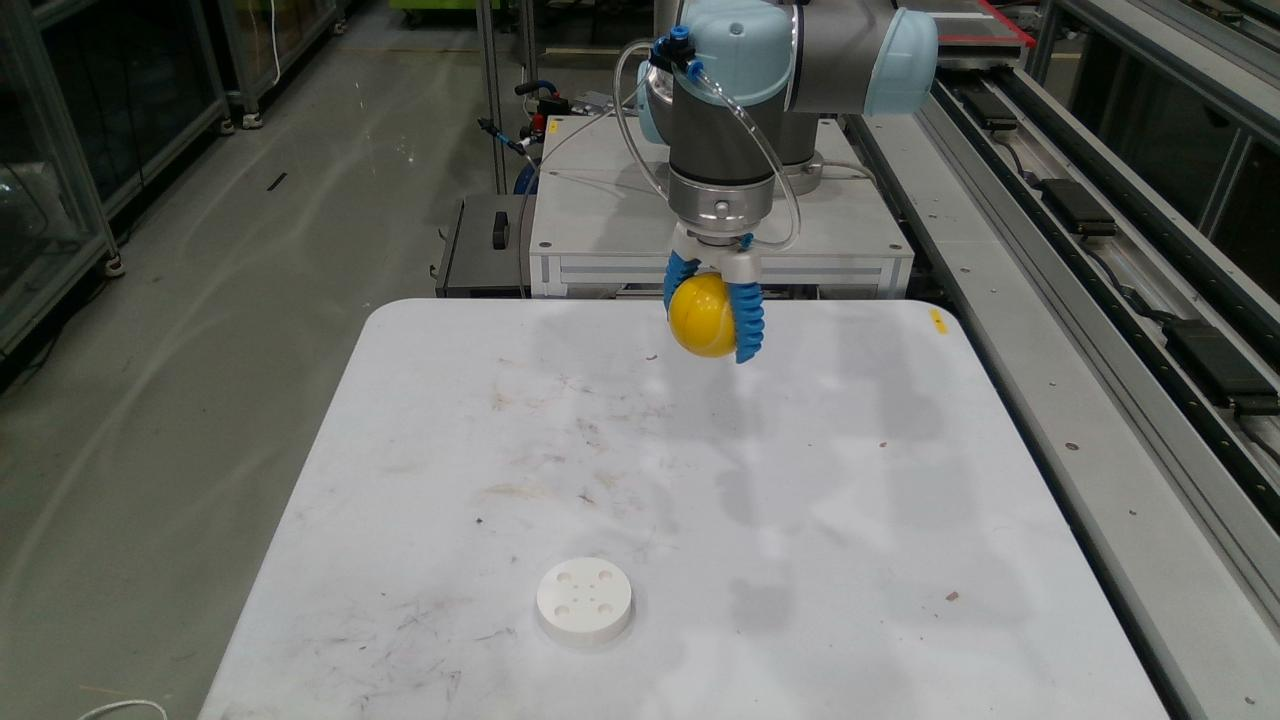UR5: (636, 0, 938, 285)
gripper_left: (663, 250, 699, 310)
gripper_right: (727, 282, 764, 363)
target: (536, 557, 634, 648), (668, 271, 736, 357)
